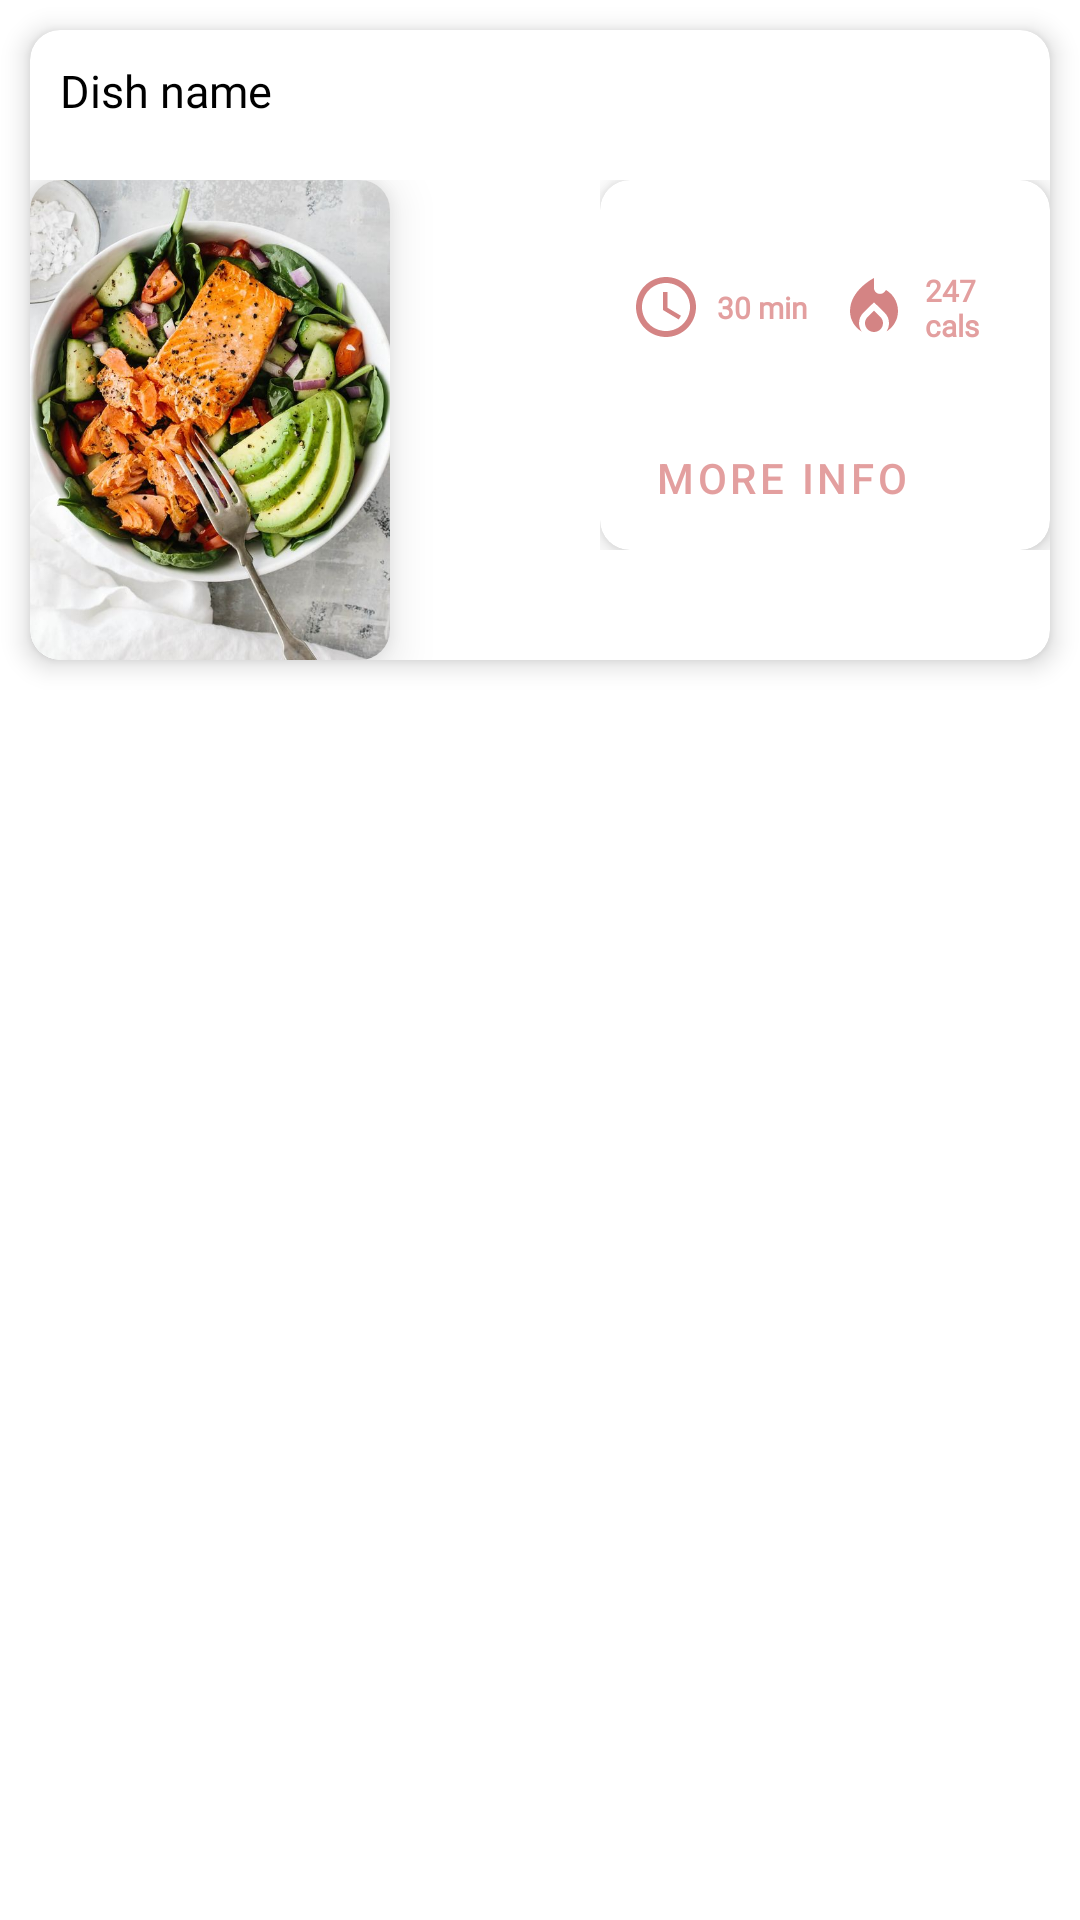

Where to tap for icons on this 1080*1920 app screen, as (x=x, y=y):
access time: (x=666, y=307)
local fire department: (x=874, y=305)
